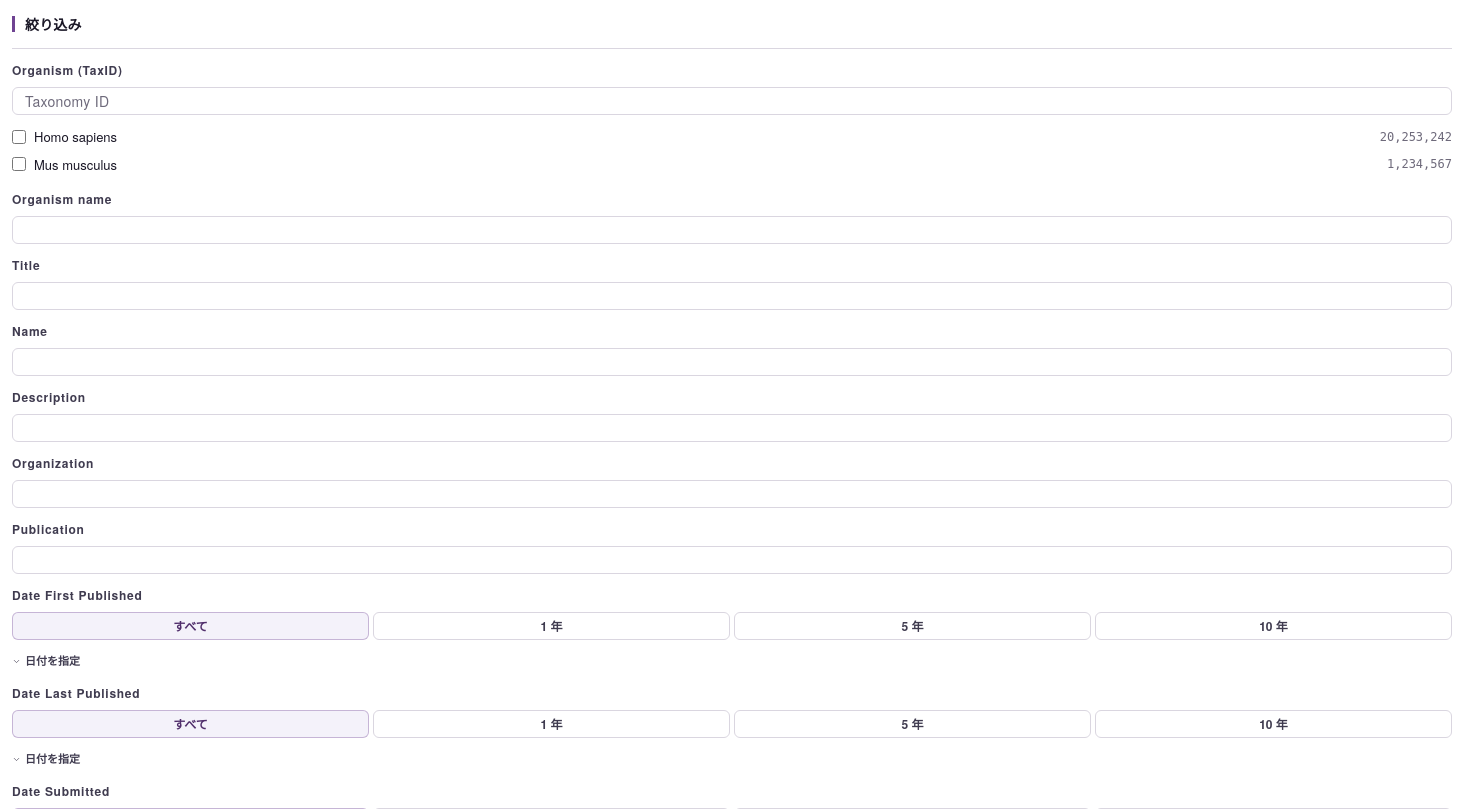
Test: OrganismFacetSection tax id box › typingMinorTaxIdKeepsSelectionAndShowsExtraRow
In the field labelled "Taxonomy ID": (732, 101) [12,87,1452,115], type "99999"
Wait 300 ms
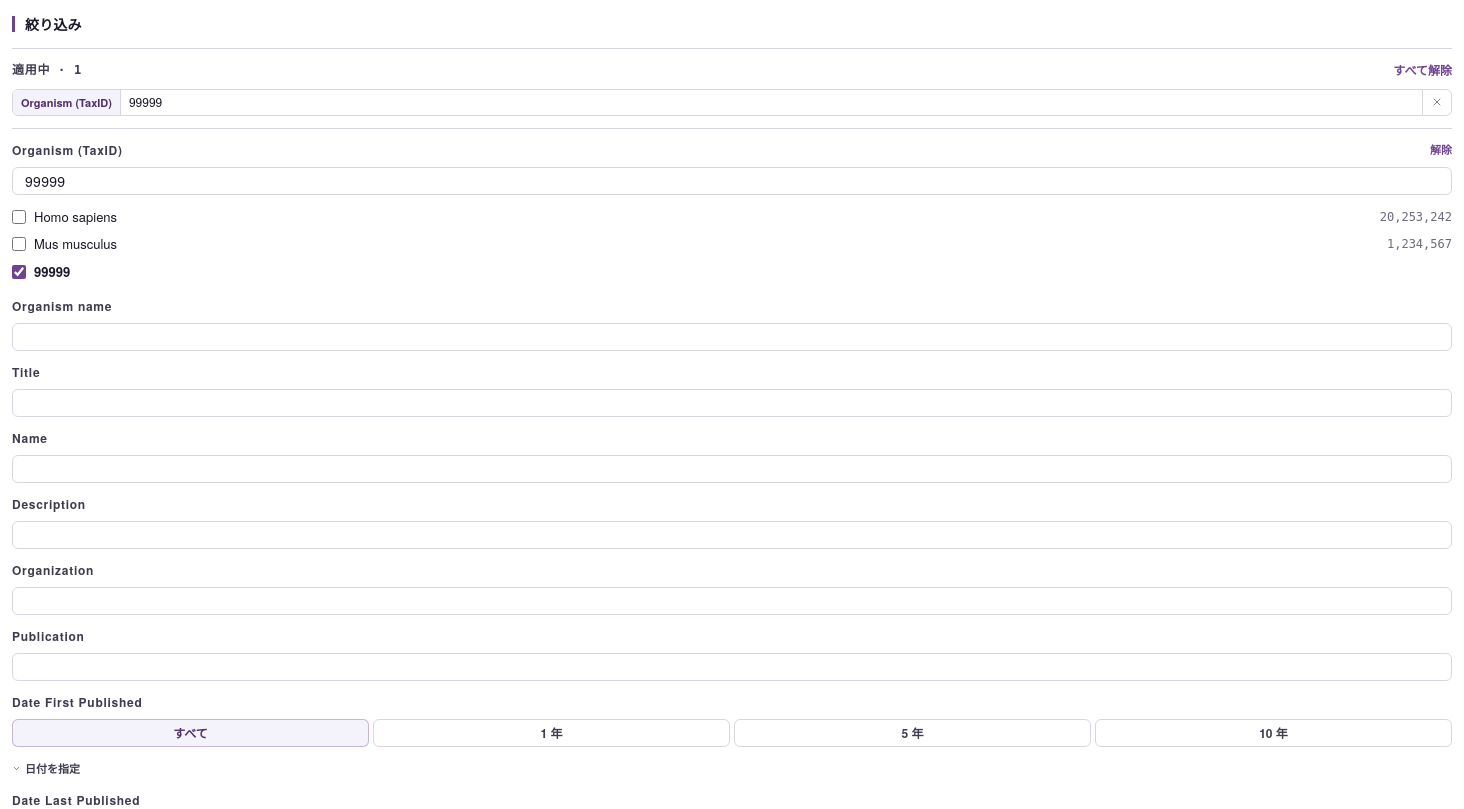
Result: the checkbox labelled "99999" is checked at [12,264,26,278]
